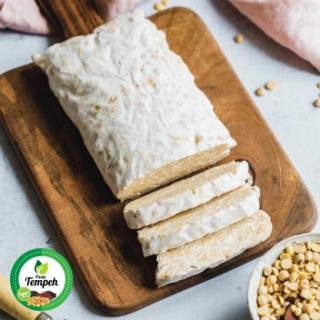Tempe: (32, 9, 276, 285)
